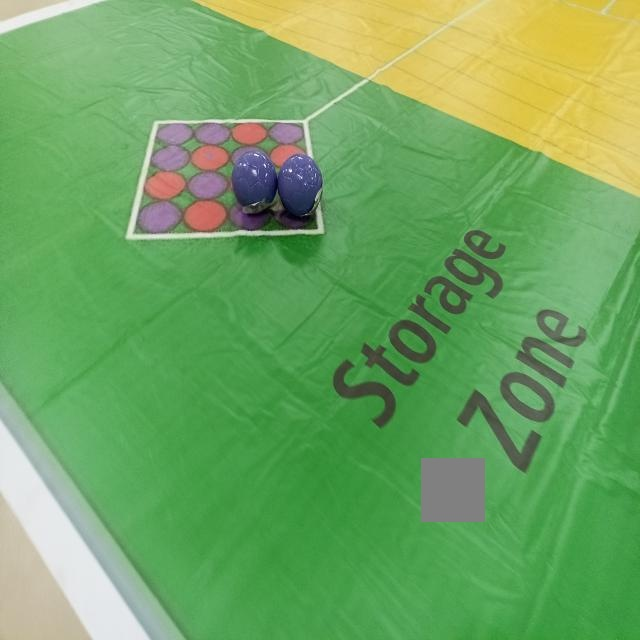purple_ball: (278, 154, 324, 218), (232, 150, 277, 212)
